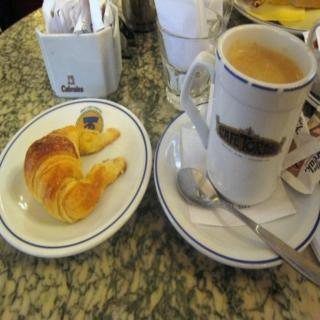Croissant: (22, 124, 126, 226)
